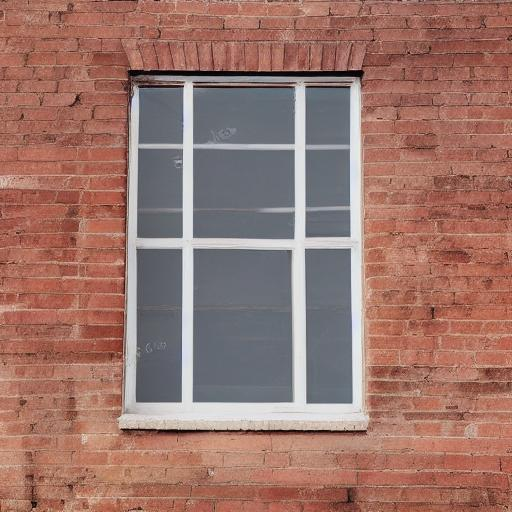Window: (116, 38, 374, 435)
